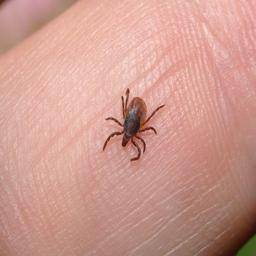Rhipicephalus sanguineus: (101, 89, 165, 163)
